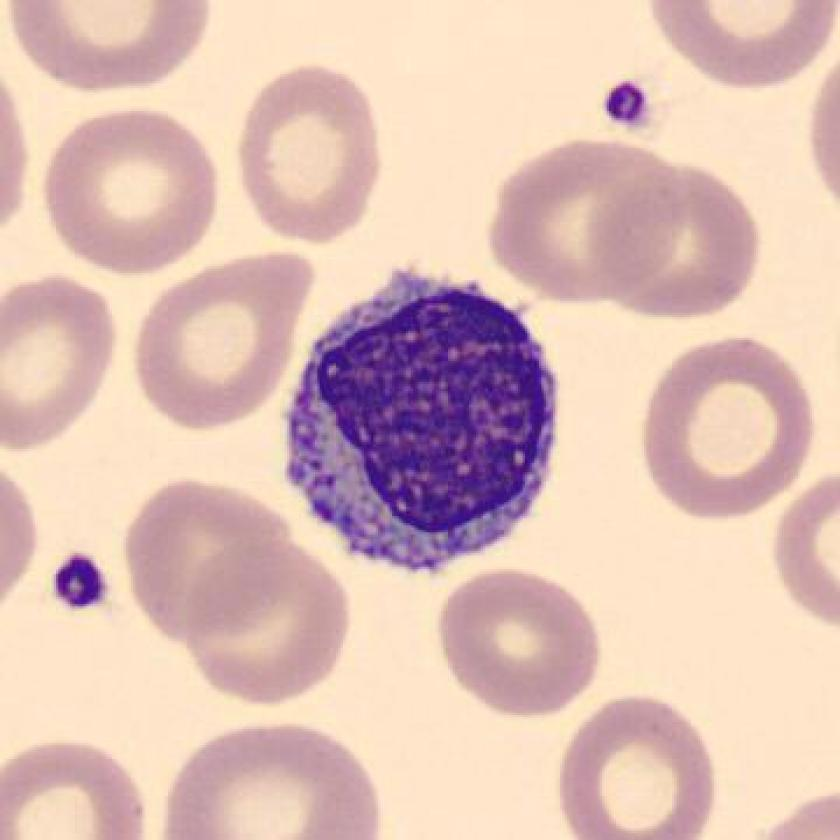lymphocyte: (265, 258, 577, 598)
